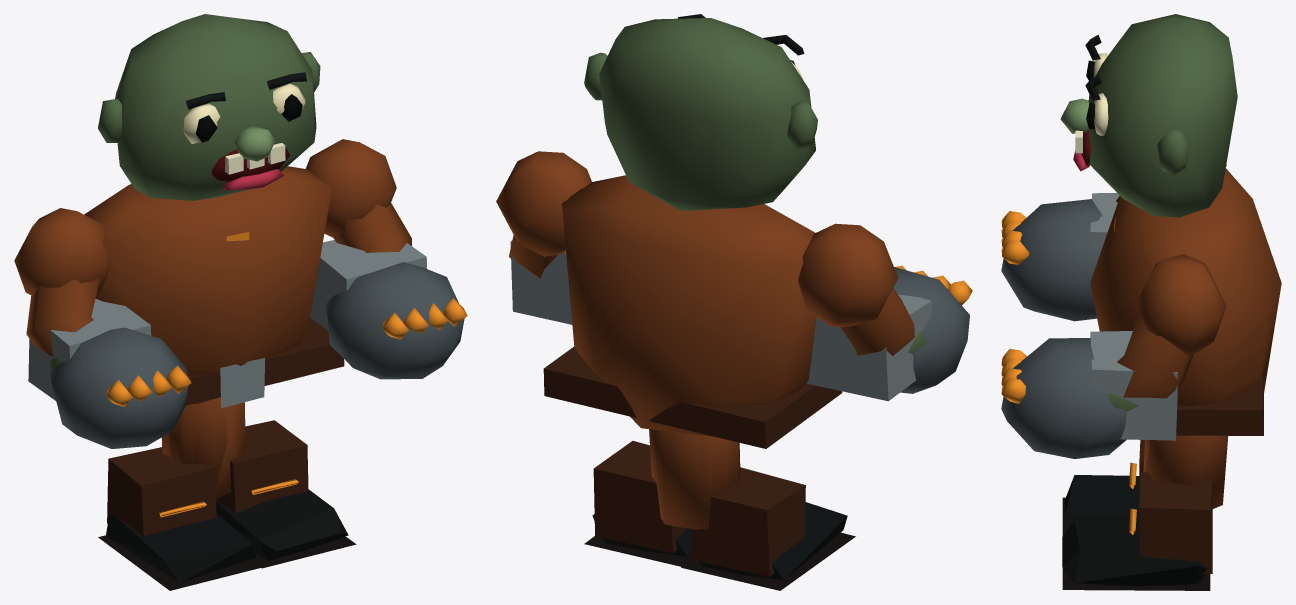
Rendered from bruiser-lod.glb.
3 views of the same model, side by side, from view 1: azimuth 30°, elevation 25°; view 2: azimuth 150°, elevation 25°; view 3: azimuth 270°, elevation 25° (orthographic). The views are drawn at different scales.
Parts seen in each view (by area): view 1: Arms, Body, Head, LegL, LegR; view 2: Body, Head, Arms, LegL, LegR; view 3: Arms, Head, Body, LegR, LegL.
Part boxes in pixels (x1,y1,x2,y2): Arms: [14, 139, 467, 448]; Body: [84, 166, 344, 408]; Head: [98, 14, 320, 200]; LegL: [98, 402, 264, 590]; LegR: [168, 397, 356, 568]; Body: [543, 175, 842, 448]; Head: [584, 14, 817, 210]; Arms: [496, 151, 972, 401]; LegL: [649, 429, 855, 590]; LegR: [584, 429, 738, 567]; Arms: [1001, 164, 1226, 458]; Head: [1060, 14, 1237, 217]; Body: [1090, 168, 1281, 435]; LegR: [1062, 435, 1223, 590]; LegL: [1062, 435, 1228, 535].
Size of the model in its own units: 0.9427 by 1.16 by 0.5676.
1 material, 1 textured.
